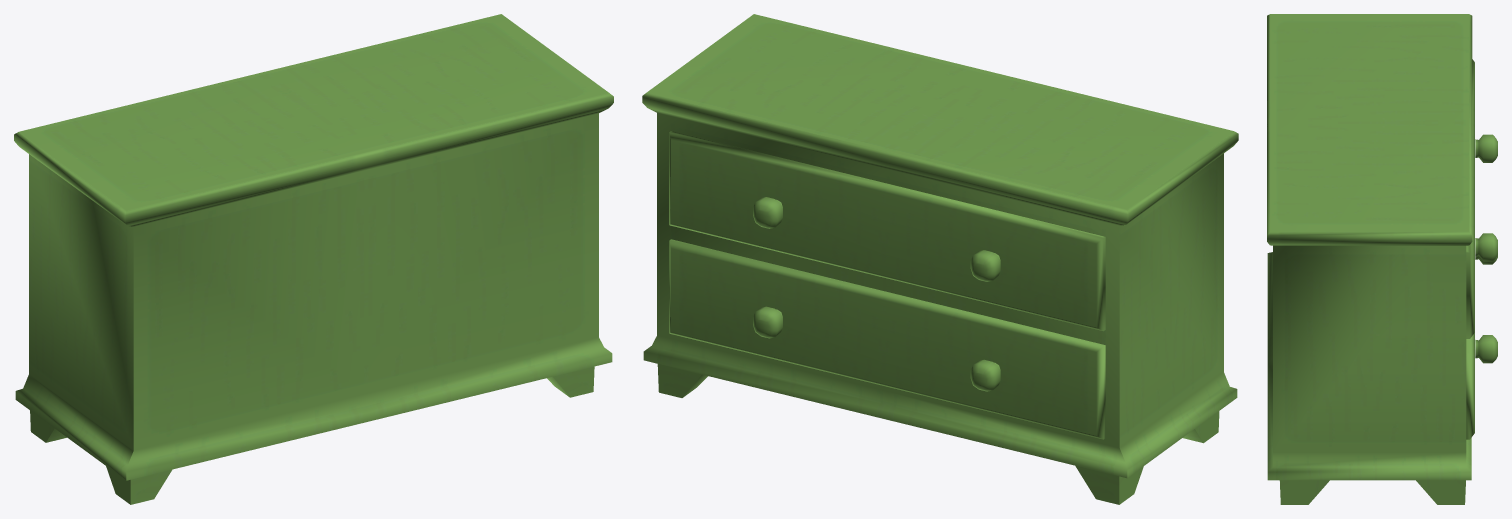
File: Anim.fbx
3 renders of one model, left to right at view 1: azimuth 30°, elevation 25°; view 2: azimuth 150°, elevation 25°; view 3: azimuth 270°, elevation 25°, orthographic. The views are drawn at different scales.
Visible parts, largest first — view 1: Drawers; view 2: Drawers, Draw; view 3: Drawers, Draw.
Part boxes in pixels (x1,y1,x2,y2): Drawers: (14,14,613,504); Drawers: (642,14,1238,504); Draw: (669,131,1105,331); Drawers: (1267,14,1497,504); Draw: (1466,59,1497,338).
Size of the model in its own units: 2.88 by 1.7 by 1.28.
